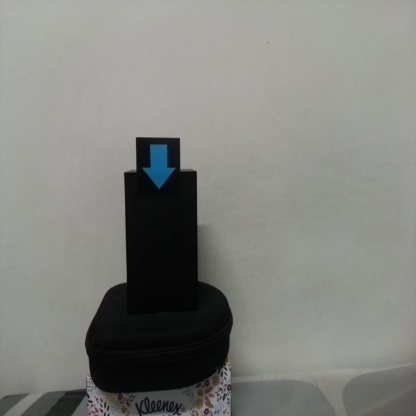id_2: (136, 137, 180, 196)
